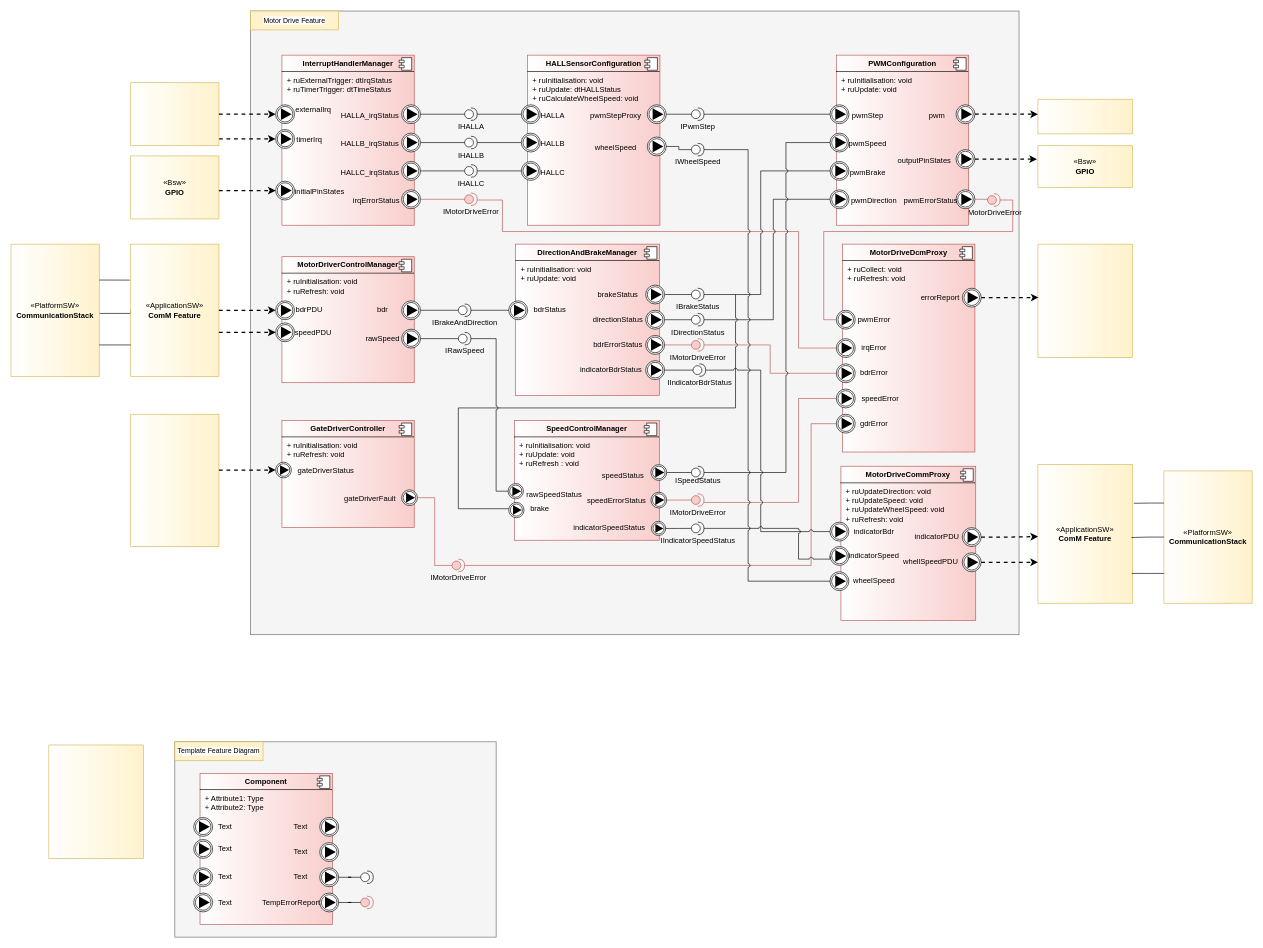
Image size: 1263x948. Some labels were removed from this diagram. The centre of each missing label's shape, as x and y in pixels:
«Bsw» InterruptHandling: pixel 174 114
«Bsw» Timer: pixel 1084 116
«CDD» DRV8353 Library: pixel 174 480
«PlatformSW» DiagnosticsStack: pixel 1084 300
«TempPlatform» Template Feature: pixel 95 801
